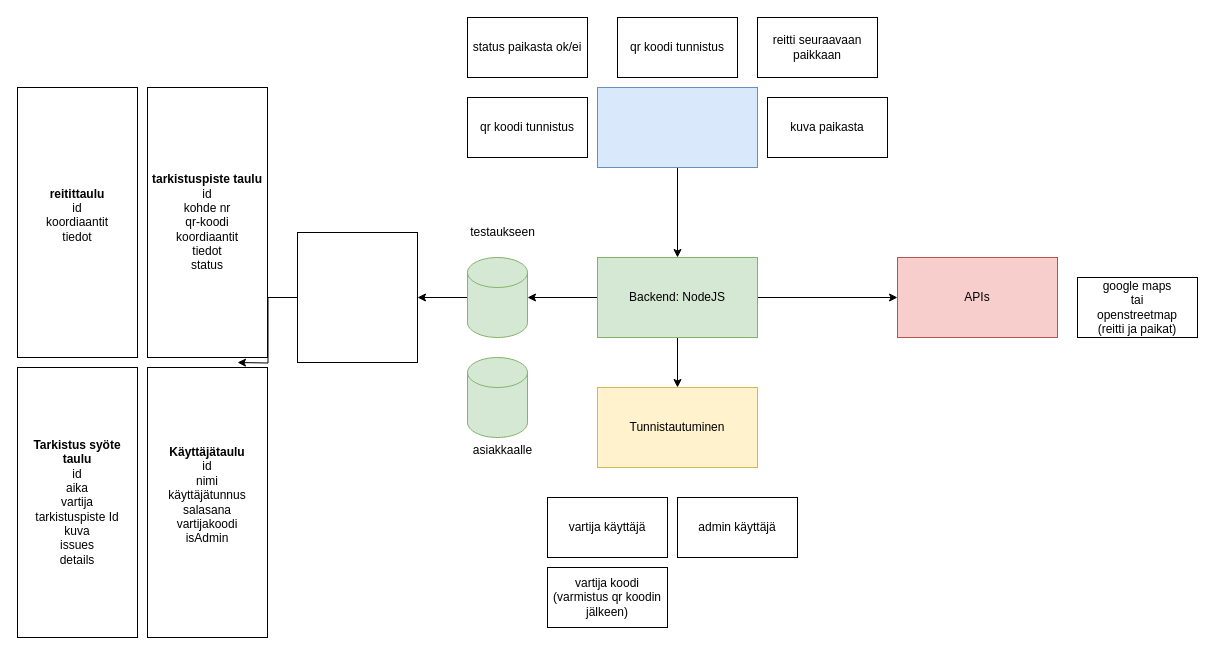
Image size: 1215x655. Some labels were removed from this diagram. The centre of each missing label's shape, as x and y in pixels:
"frontend: React Native" belongs at [677,127].
"MongoDB tietokanta" belongs at [497,297].
"MySql tietokanta" belongs at [497,397].
"Taulut käyttäjät tarkistuspisteet reitit tarkistus syöte" belongs at [357,297].
